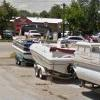Boat: (10, 24, 100, 89)
